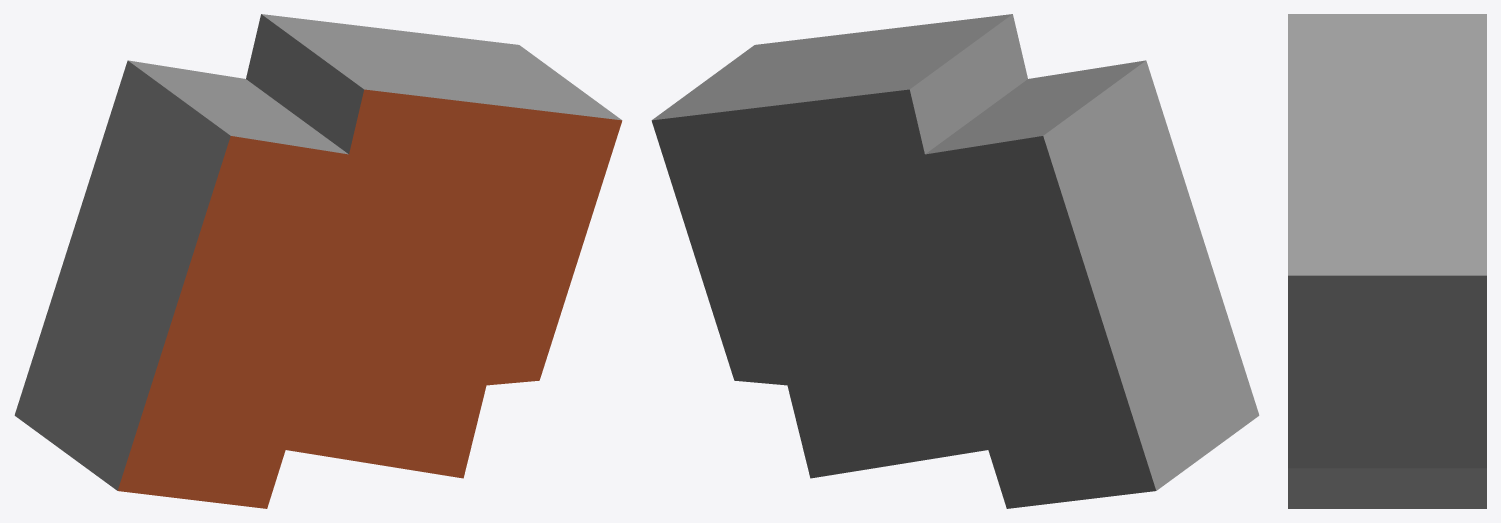
File: construction_0446_assumed_A_Casa_h6m.obj
The picture shows the model from 3 angles, left to right: view 1: azimuth 30°, elevation 25°; view 2: azimuth 150°, elevation 25°; view 3: azimuth 270°, elevation 25°; orthographic projection. The views are drawn at different scales.
Parts seen in each view (by area): view 1: construction_0446_assumed_A_Casa; view 2: construction_0446_assumed_A_Casa; view 3: construction_0446_assumed_A_Casa.
Part boxes in pixels (box(x1,y1,x2,y2)): construction_0446_assumed_A_Casa: box(14, 14, 622, 508); construction_0446_assumed_A_Casa: box(651, 14, 1259, 508); construction_0446_assumed_A_Casa: box(1288, 14, 1486, 508).
Size of the model in its own units: 16.96 by 13.27 by 6.
